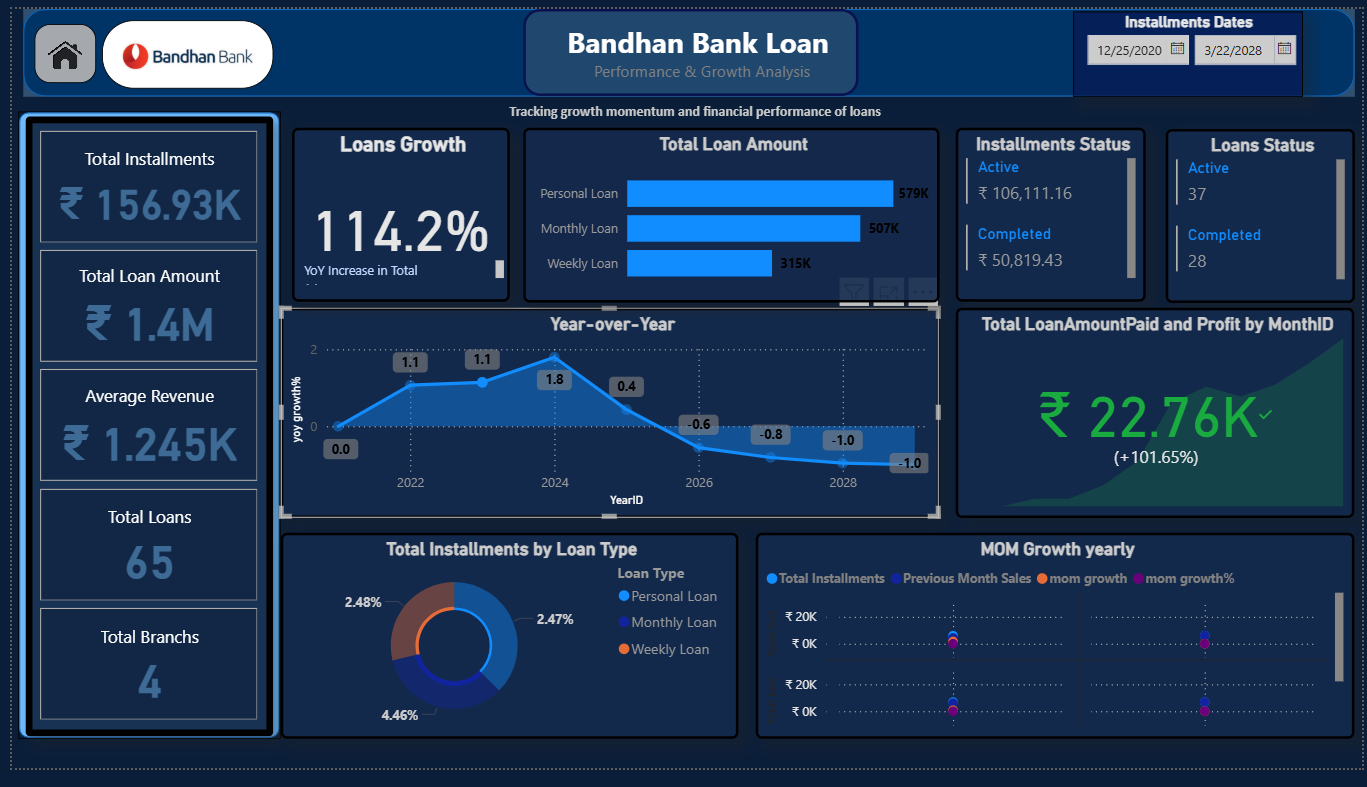

What the dashboard file says about the page in this screenshot:
{"tool":"powerbi","page":{"name":"Dashboard","canvas":[1280,720],"ordinal":0},"visuals":[{"type":"shape","box":[5.9,97.1,248.7,594.5],"z":0},{"type":"cardVisual","fields":{"Data":["All Measures.Total Installments","All Measures.Total Loan Amount","All Measures.Average Revenue","All Measures.Total Loans","All Measures.Total Branchs"]},"box":[13,101.9,234.5,587.4],"z":1000},{"type":"areaChart","title":"Year-over-Year","fields":{"Y":["All Measures.yoy growth%"],"Category":["DimDate.YearID"]},"box":[254.6,283,624.1,199],"z":2000},{"type":"areaChart","title":"MOM Growth yearly","fields":{"Y":["All Measures.Total Installments","All Measures.Previous Month Sales","All Measures.mom growth","All Measures.mom growth%"],"Category":["DimDate.YearID"],"Rows":["DimDate.MonthName"]},"box":[704.7,496.2,567.3,195.4],"z":3000},{"type":"donutChart","title":"Total Installments by Loan Type","fields":{"Y":["All Measures.Total Installments"],"Category":["LoansType.LoanTypeName"]},"box":[254.6,496.2,433.5,195.4],"z":4000},{"type":"multiRowCard","title":"Installments Status","fields":{"Values":["Loans.LoanStatus","All Measures.Total Installments"]},"box":[894.2,112.5,180,164.6],"z":5000},{"type":"multiRowCard","title":"Loans Status","fields":{"Values":["Loans.LoanStatus","CountNonNull(Loans.CustomerID)"]},"box":[1093.1,113.7,178.8,164.6],"z":6000},{"type":"kpi","title":"Total LoanAmountPaid and Profit by MonthID","fields":{"TrendLine":["DimDate.MonthID"],"Indicator":["Sum(Repayments.LoanAmountPaid)"],"Goal":["All Measures.Profit"]},"box":[894.2,283,377.8,199],"z":7000},{"type":"barChart","title":"Total Loan Amount ","fields":{"Category":["LoansType.LoanTypeName"],"Y":["Sum(Loans.LoanAmount)"]},"box":[484.4,112.5,394.4,165.8],"z":8000},{"type":"shape","box":[10.7,0,1261.3,82.9],"z":9000},{"type":"slicer","title":"Installments Dates","fields":{"Values":["Repayments.PaymentsDate"]},"box":[1005.5,2.4,217.9,80.5],"z":10000},{"type":"textbox","box":[483.8,0,317.6,82.5],"z":11000},{"type":"image","box":[85.3,10.7,162.3,65.1],"z":12000},{"type":"card","title":"Loans Growth","fields":{"Values":["All Measures.LoanGrowth%"]},"box":[265.3,112.5,206.1,164.6],"z":13000},{"type":"image","box":[21.3,14.2,58,55.7],"z":14000},{"type":"textbox","box":[459.5,81.7,375.4,30.8],"z":15000},{"type":"textbox","box":[265.3,233.3,206.1,33.2],"z":16000}]}

Visuals, with their boxes in screenshot pixels (x1, y1, x2, y2), scaled from the page's 1280x720 canvas onto the 1367x787 screenshot:
shape: <region>6, 106, 272, 756</region>
cardVisual - All Measures.Total Installments x All Measures.Total Loan Amount: <region>14, 111, 264, 753</region>
"Year-over-Year" areaChart: <region>272, 309, 938, 527</region>
"MOM Growth yearly" areaChart: <region>753, 542, 1358, 756</region>
"Total Installments by Loan Type" donutChart: <region>272, 542, 735, 756</region>
"Installments Status" multiRowCard: <region>955, 123, 1147, 303</region>
"Loans Status" multiRowCard: <region>1167, 124, 1358, 304</region>
"Total LoanAmountPaid and Profit by MonthID" kpi: <region>955, 309, 1358, 527</region>
"Total Loan Amount " barChart: <region>517, 123, 939, 304</region>
shape: <region>11, 0, 1358, 91</region>
"Installments Dates" slicer: <region>1074, 3, 1307, 91</region>
textbox: <region>517, 0, 856, 90</region>
image: <region>91, 12, 264, 83</region>
"Loans Growth" card: <region>283, 123, 503, 303</region>
image: <region>23, 16, 85, 76</region>
textbox: <region>491, 89, 892, 123</region>
textbox: <region>283, 255, 503, 291</region>
